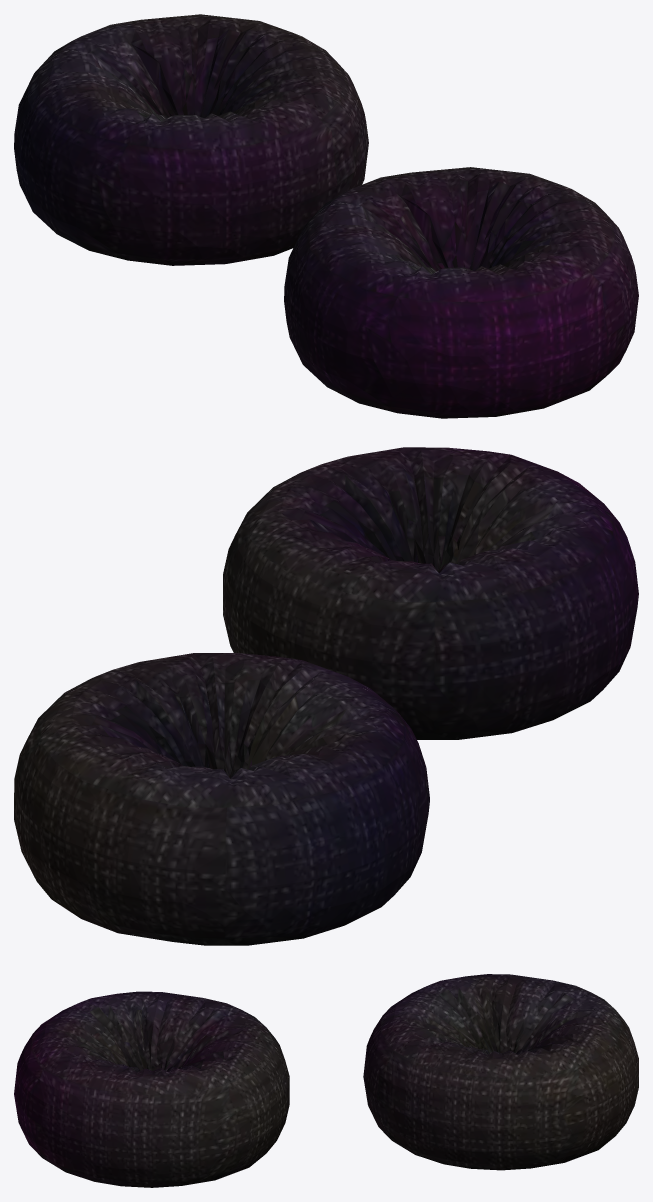
File: beanbagsNight-transformed.glb
3 views of the same model, one above another, from view 1: azimuth 30°, elevation 25°; view 2: azimuth 150°, elevation 25°; view 3: azimuth 270°, elevation 25° (orthographic). The views are drawn at different scales.
Parts seen in each view (by area): view 1: beanbags.001; view 2: beanbags.001; view 3: beanbags.001.
Boxes of the visible parts, x1=… form: beanbags.001: x1=14, y1=14, x2=638, y2=418; beanbags.001: x1=14, y1=447, x2=638, y2=945; beanbags.001: x1=14, y1=974, x2=638, y2=1187.
Bounding box in the file's own units: 1.4 × 0.5131 × 2.75.
1 material, 1 textured.
